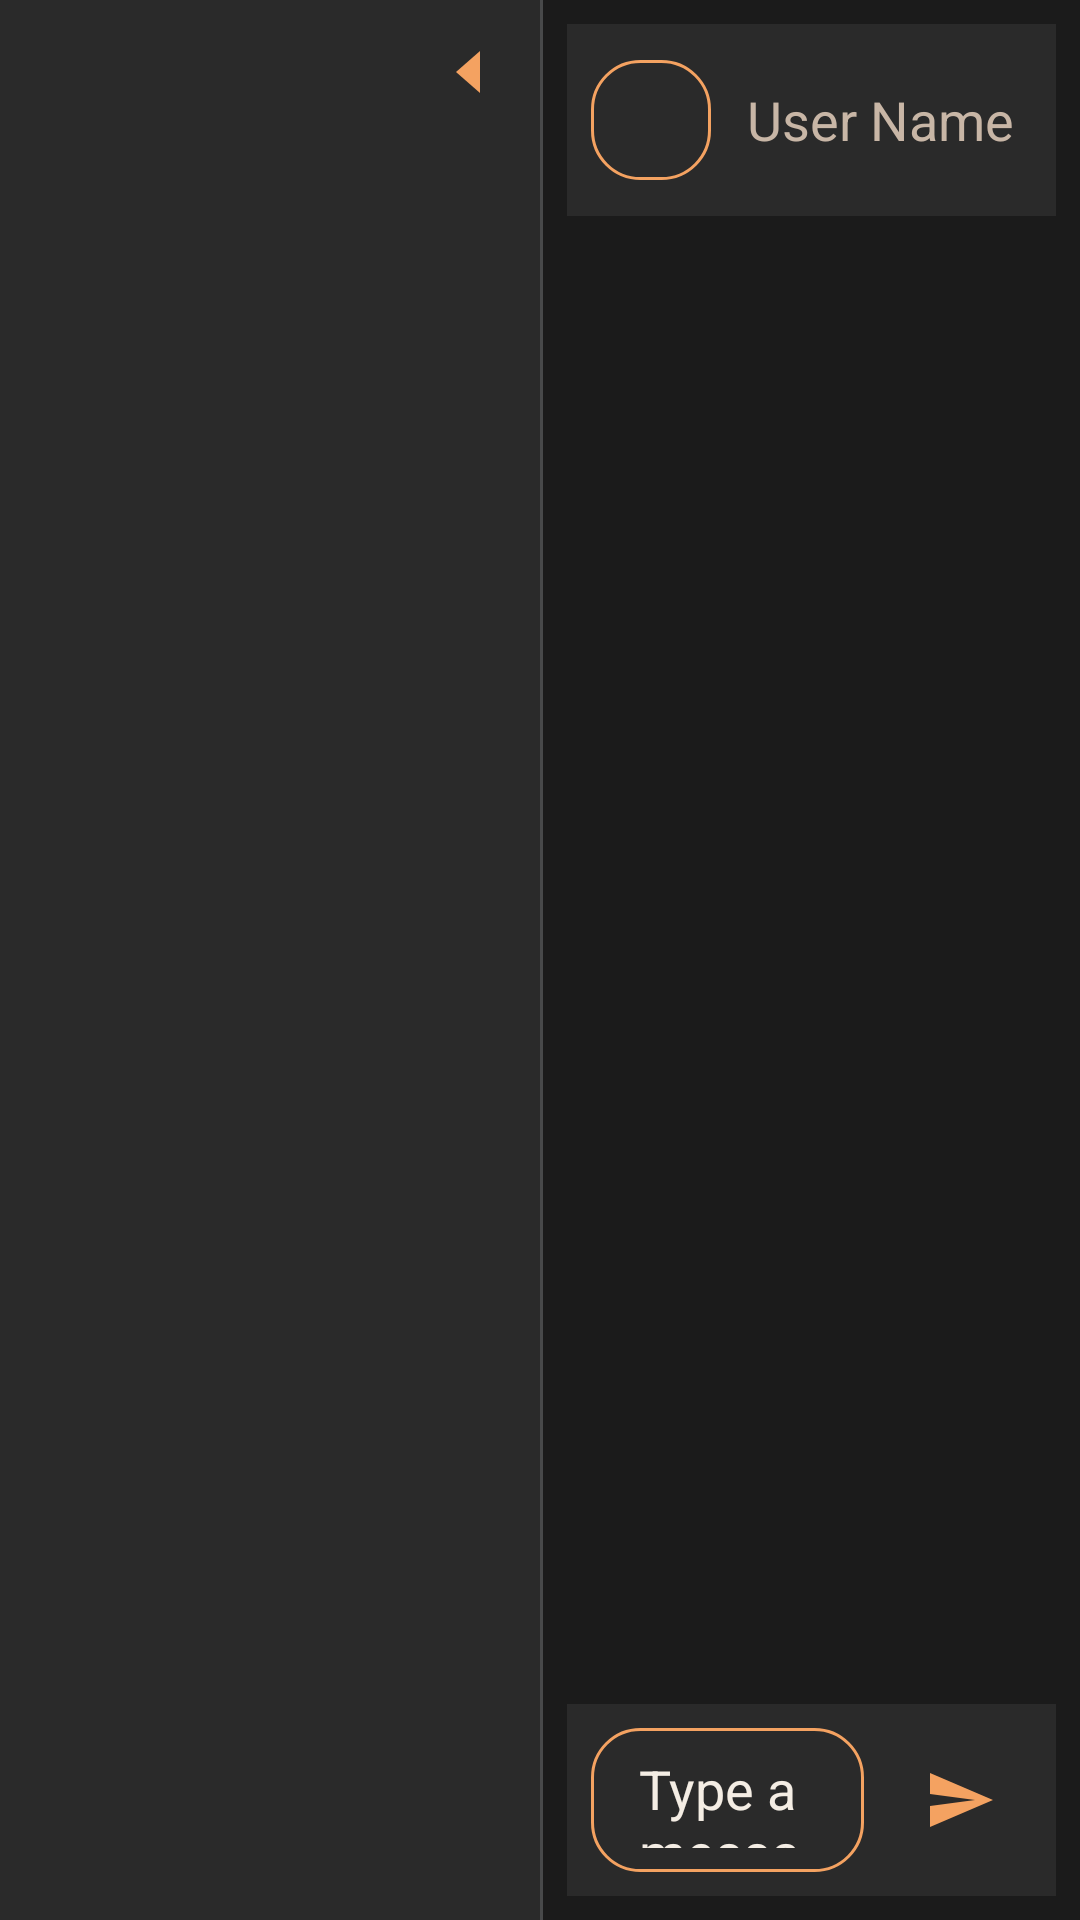

Point at icon controls on the screen. Image size 1080 × 1920, points as (x,y).
Expand or collapse: (468,72)
Send message: (961,1800)
